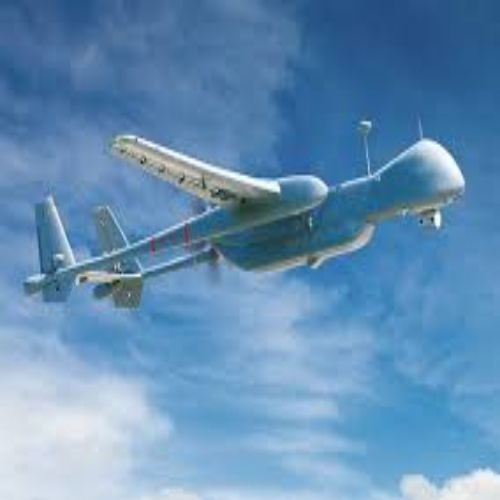uav249: (23, 113, 467, 309)
